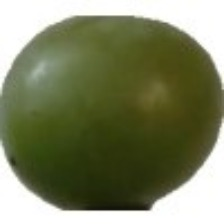grapes: (28, 19, 208, 205)
